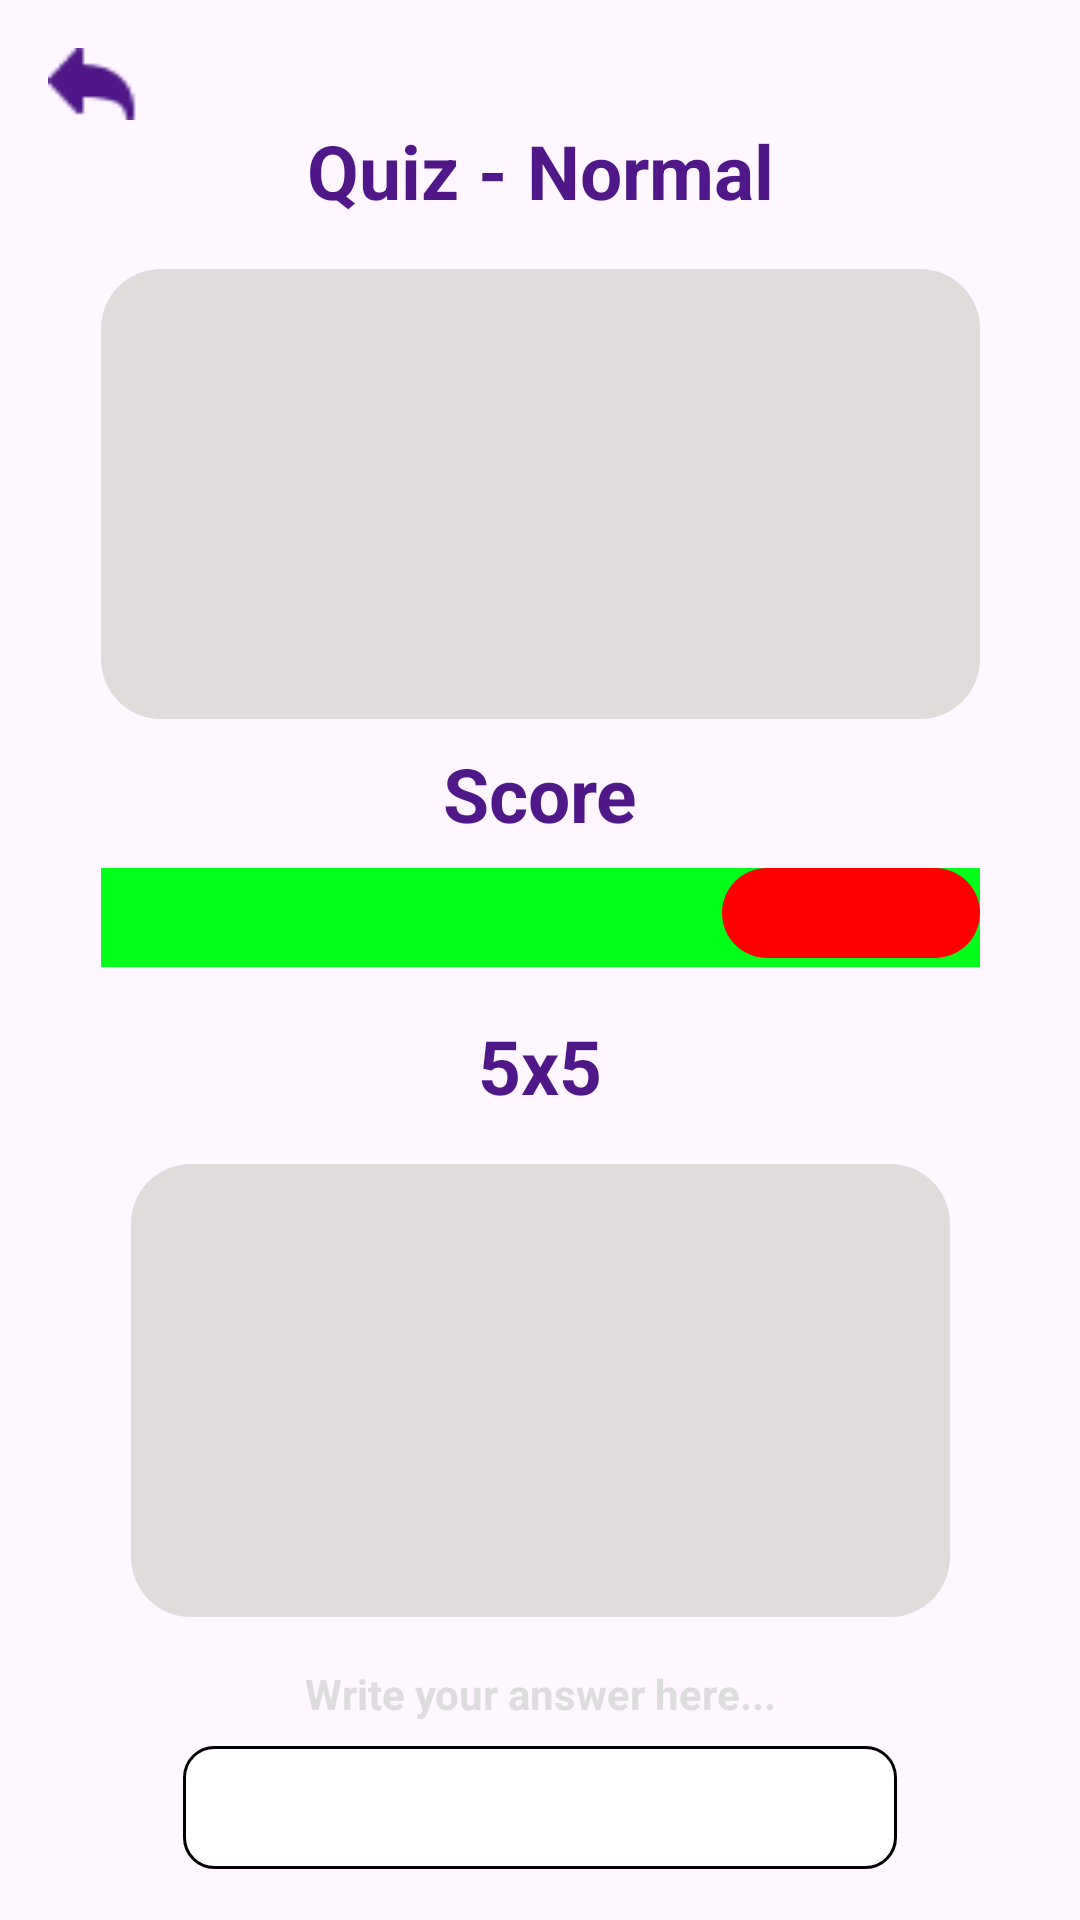

Icons on this 1080 x 1920 Android screen, each with its box as [x1=x1, y1=y1, x2=x2, y2=y2]:
back: [x1=48, y1=48, x2=136, y2=120]
